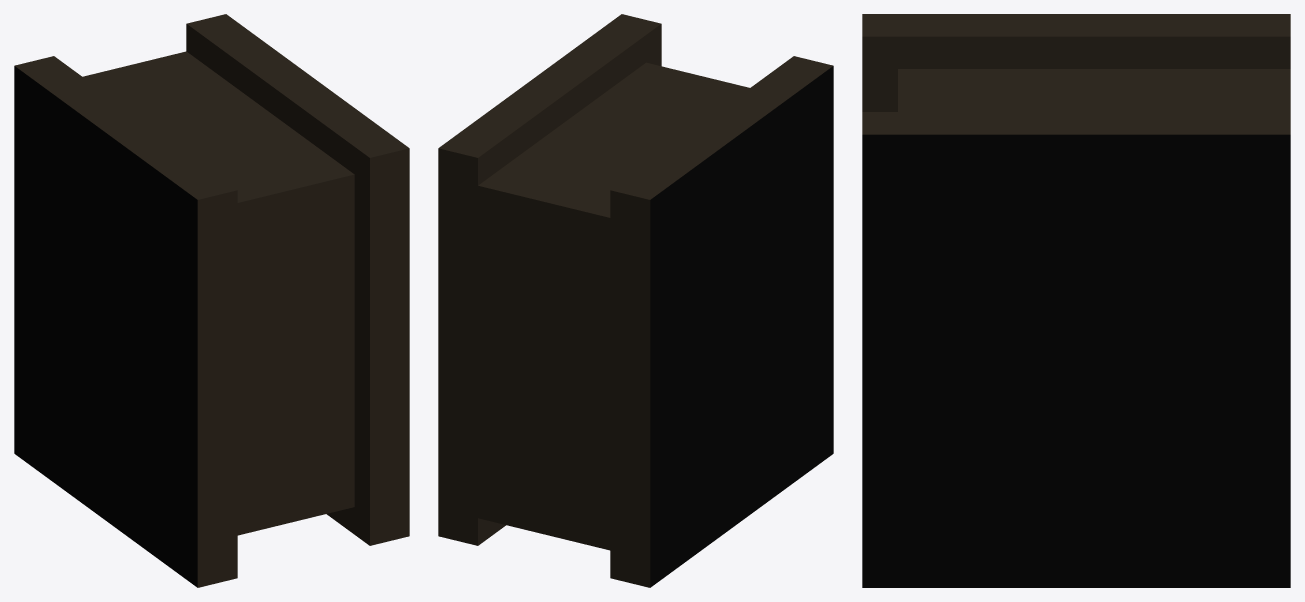
The model's file is dc_metro_lcd_pids.obj.
3 renders of one model, left to right at view 1: azimuth 30°, elevation 25°; view 2: azimuth 150°, elevation 25°; view 3: azimuth 270°, elevation 25°, orthographic. The views are drawn at different scales.
Parts seen in each view (by area): view 1: cube; view 2: cube; view 3: cube.
Part boxes in pixels (bbox=[...]): cube: bbox=[14, 14, 409, 587]; cube: bbox=[438, 14, 833, 587]; cube: bbox=[862, 14, 1290, 587].
Size of the model in its own units: 0.5 by 0.875 by 0.75.
Materials: 3 (2 with a texture image).
